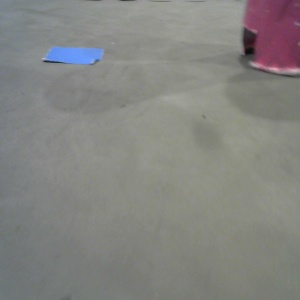Right: (207, 1, 281, 89)
